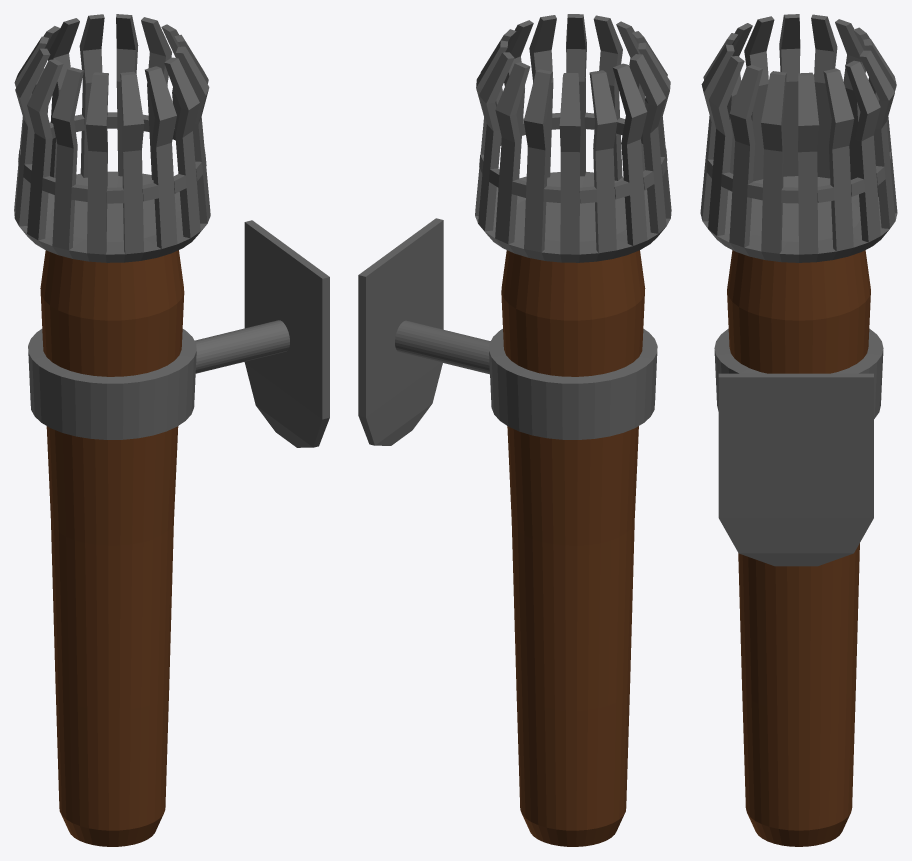
The model's file is TorchColored.fbx.
3 views of the same model, side by side, from view 1: azimuth 30°, elevation 25°; view 2: azimuth 150°, elevation 25°; view 3: azimuth 270°, elevation 25° (orthographic).
Visible parts, largest first — view 1: Cylinder.002; view 2: Cylinder.002; view 3: Cylinder.002.
Boxes of the visible parts, box(x1,y1,x2,y2) form: Cylinder.002: box(14, 14, 329, 846); Cylinder.002: box(358, 14, 671, 846); Cylinder.002: box(700, 14, 897, 846).
Size of the model in its own units: 18.59 by 52.99 by 12.08.
